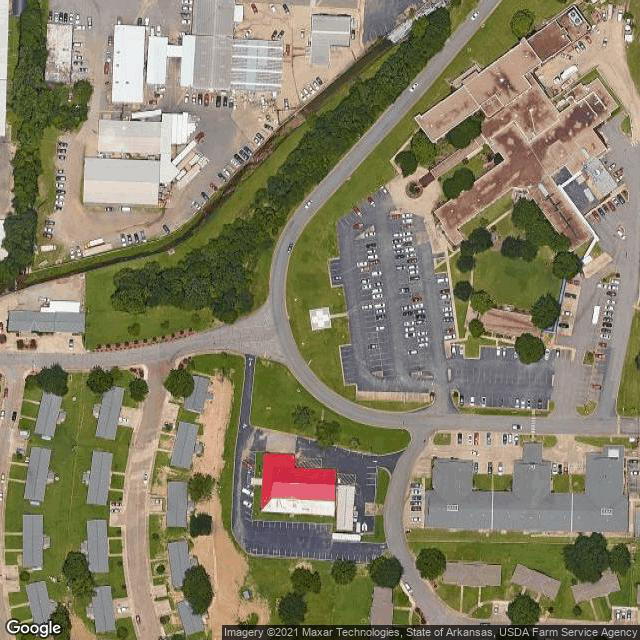Helipad: (307, 303, 333, 332)
